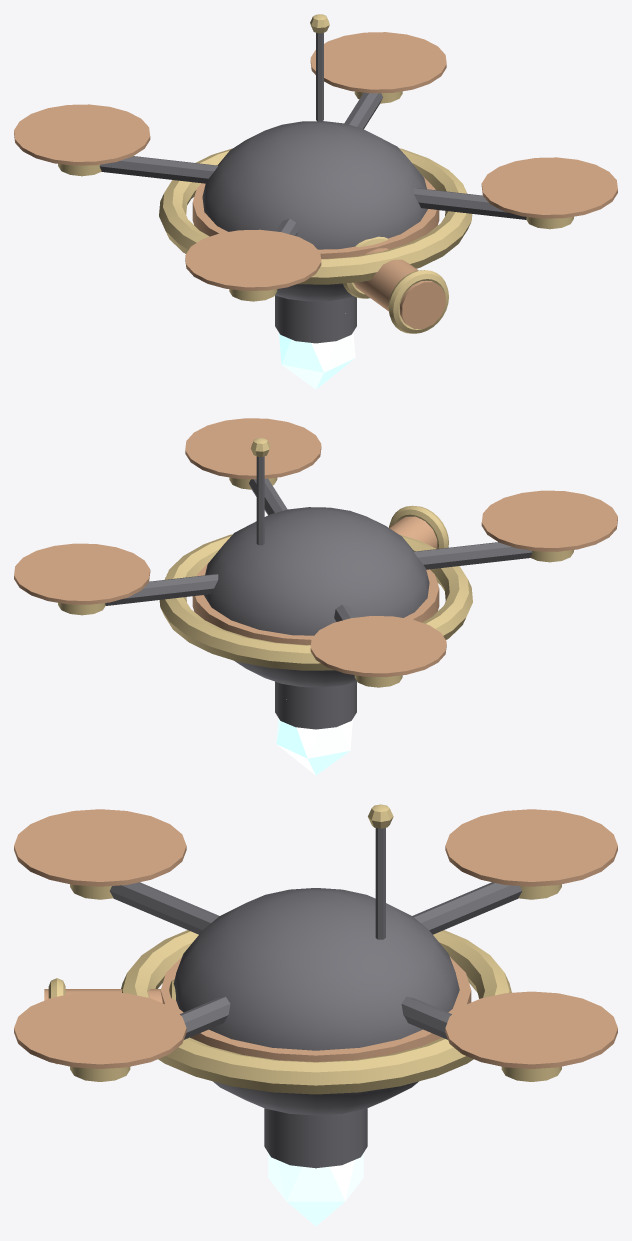
Rendered from EnemyDrone.fbx.
3 views of the same model, one above another, from view 1: azimuth 30°, elevation 25°; view 2: azimuth 150°, elevation 25°; view 3: azimuth 270°, elevation 25° (orthographic). The views are drawn at different scales.
Visible parts, largest first — view 1: Corpo, Parte_Rotor2, Parte_Rotor3, Parte_Anel, Parte_Rotor1, Parte_Rotor4, Arma, Cristal, Parte_Antena; view 2: Corpo, Parte_Rotor4, Parte_Rotor1, Parte_Anel, Parte_Rotor2, Parte_Rotor3, Cristal, Arma, Parte_Antena; view 3: Corpo, Parte_Anel, Parte_Rotor2, Parte_Rotor4, Parte_Rotor1, Parte_Rotor3, Cristal, Parte_Antena, Arma.
Boxes of the visible parts, box(x1,y1,x2,y2) form: Corpo: box(192, 121, 439, 343); Parte_Rotor2: box(14, 104, 217, 183); Parte_Rotor3: box(413, 157, 617, 229); Parte_Anel: box(159, 148, 472, 284); Parte_Rotor1: box(310, 32, 446, 128); Parte_Rotor4: box(185, 218, 321, 301); Arma: box(343, 236, 448, 333); Cristal: box(279, 313, 355, 389); Parte_Antena: box(310, 14, 329, 121); Corpo: box(192, 507, 439, 729); Parte_Rotor4: box(414, 490, 617, 569); Parte_Rotor1: box(14, 543, 218, 615); Parte_Anel: box(159, 534, 472, 670); Parte_Rotor2: box(310, 604, 446, 687); Parte_Rotor3: box(185, 418, 321, 515); Cristal: box(276, 699, 352, 775); Arma: box(389, 505, 448, 548); Parte_Antena: box(250, 438, 270, 545); Corpo: box(160, 888, 471, 1168); Parte_Anel: box(121, 930, 511, 1094); Parte_Rotor2: box(412, 809, 617, 934); Parte_Rotor4: box(14, 809, 219, 934); Parte_Rotor1: box(401, 991, 617, 1081); Parte_Rotor3: box(14, 991, 230, 1081); Cristal: box(268, 1153, 363, 1225); Parte_Antena: box(368, 804, 393, 939); Arma: box(44, 978, 175, 1064).
Bounding box in the file's own units: 1.4 × 1.12 × 1.4.
